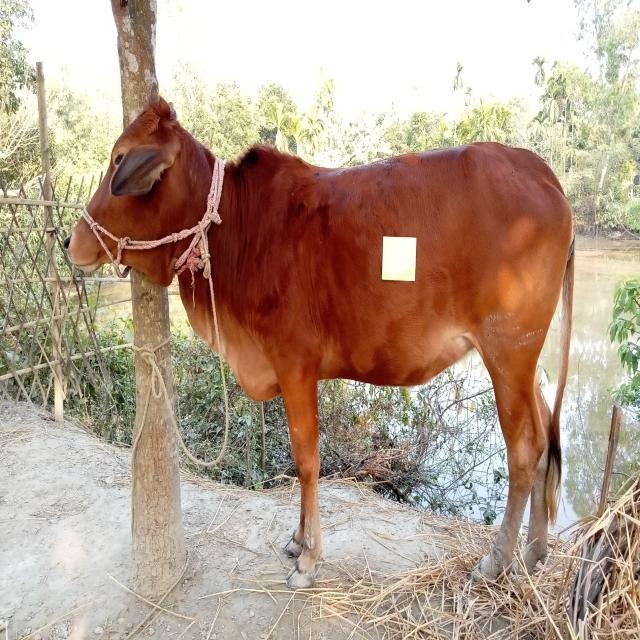badan_sapi: (282, 165, 559, 388)
sapi: (60, 92, 577, 590)
